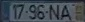1: (11, 3, 17, 20)
6: (36, 3, 45, 21)
7: (15, 3, 24, 20)
9: (27, 4, 36, 20)
A: (59, 4, 72, 21)
N: (48, 4, 59, 20)
